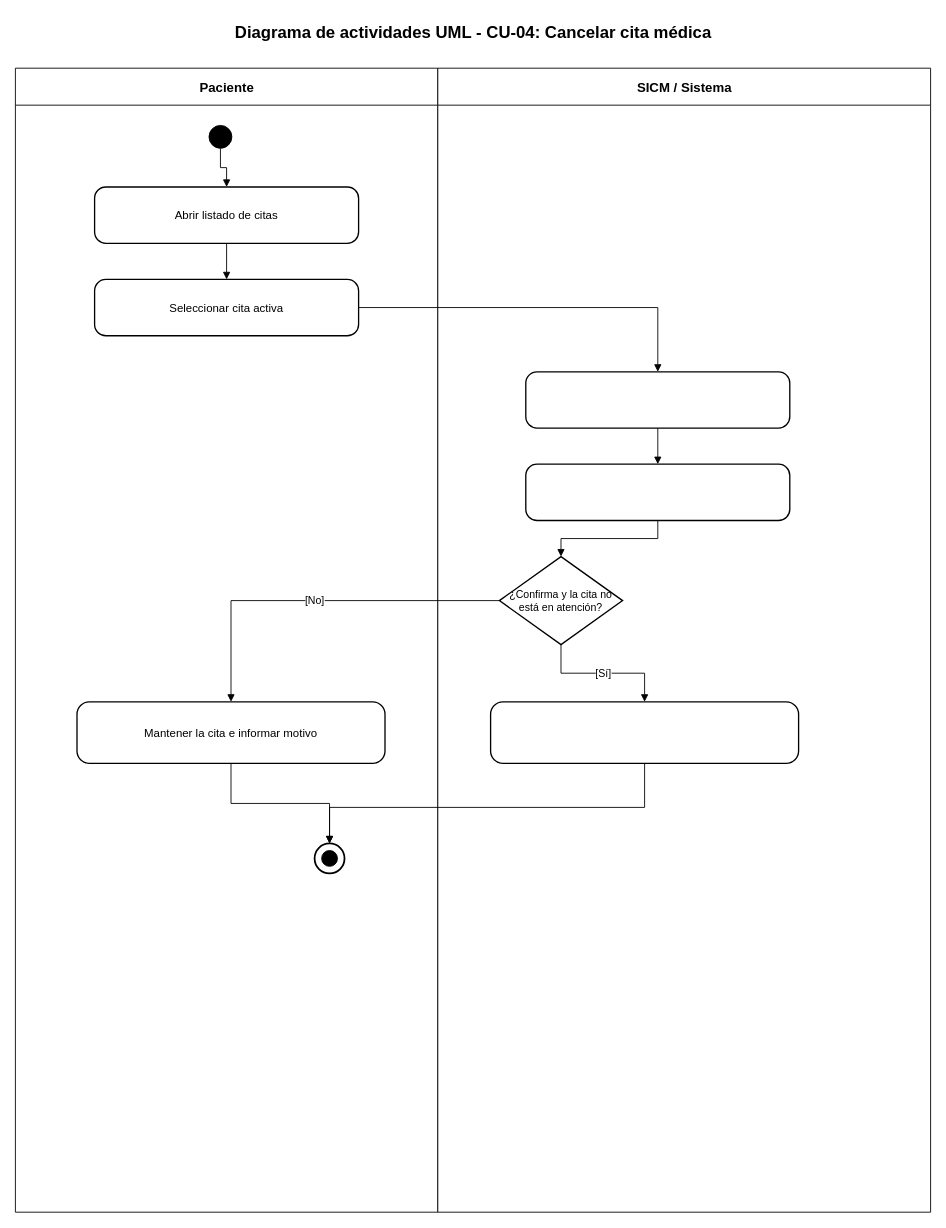
The diagram is 946 pixels wide and 1228 high, and some of its shapes have lost their labels. The shapes that lost their labels are listed below. From the top down, each one's centre as x and y in pixels, then its label:
point (657, 399): Verificar estado de la cita
point (657, 492): Solicitar confirmación
point (644, 732): Cancelar cita, liberar turno y notificar
